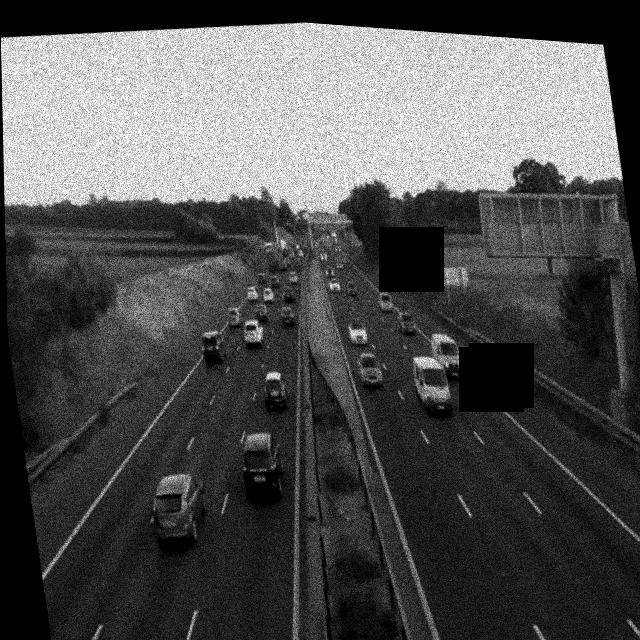car: (146, 468, 211, 549), (236, 428, 287, 503), (411, 351, 453, 418), (428, 330, 464, 381), (260, 368, 289, 411), (355, 348, 384, 389), (198, 327, 227, 366), (241, 316, 265, 348), (347, 318, 368, 348), (397, 309, 417, 336), (377, 290, 394, 314), (226, 304, 242, 328), (280, 303, 295, 326), (260, 284, 275, 304), (244, 285, 259, 303), (281, 284, 296, 302), (345, 279, 357, 297), (327, 276, 339, 292), (270, 274, 280, 289), (288, 270, 297, 284), (323, 265, 332, 278), (320, 249, 327, 262)
truck: (263, 243, 278, 271)
